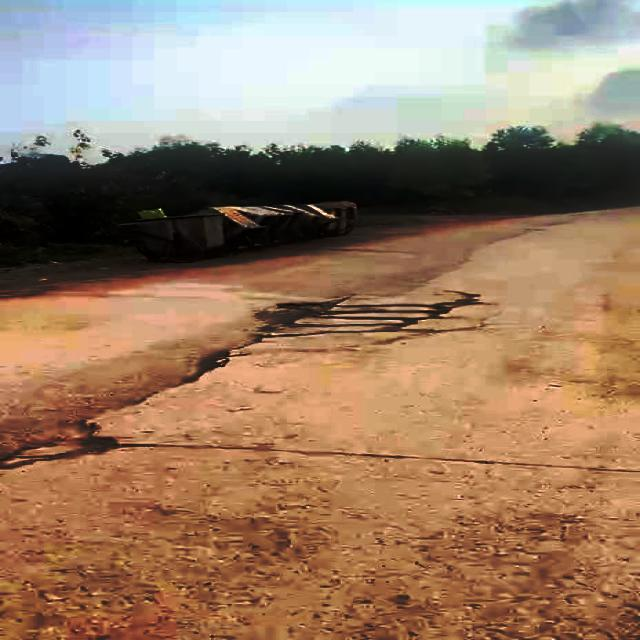pothole: (252, 294, 463, 341), (0, 411, 121, 466)
